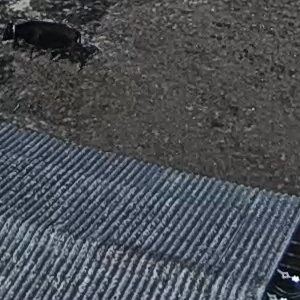cow: (1, 12, 96, 74)
